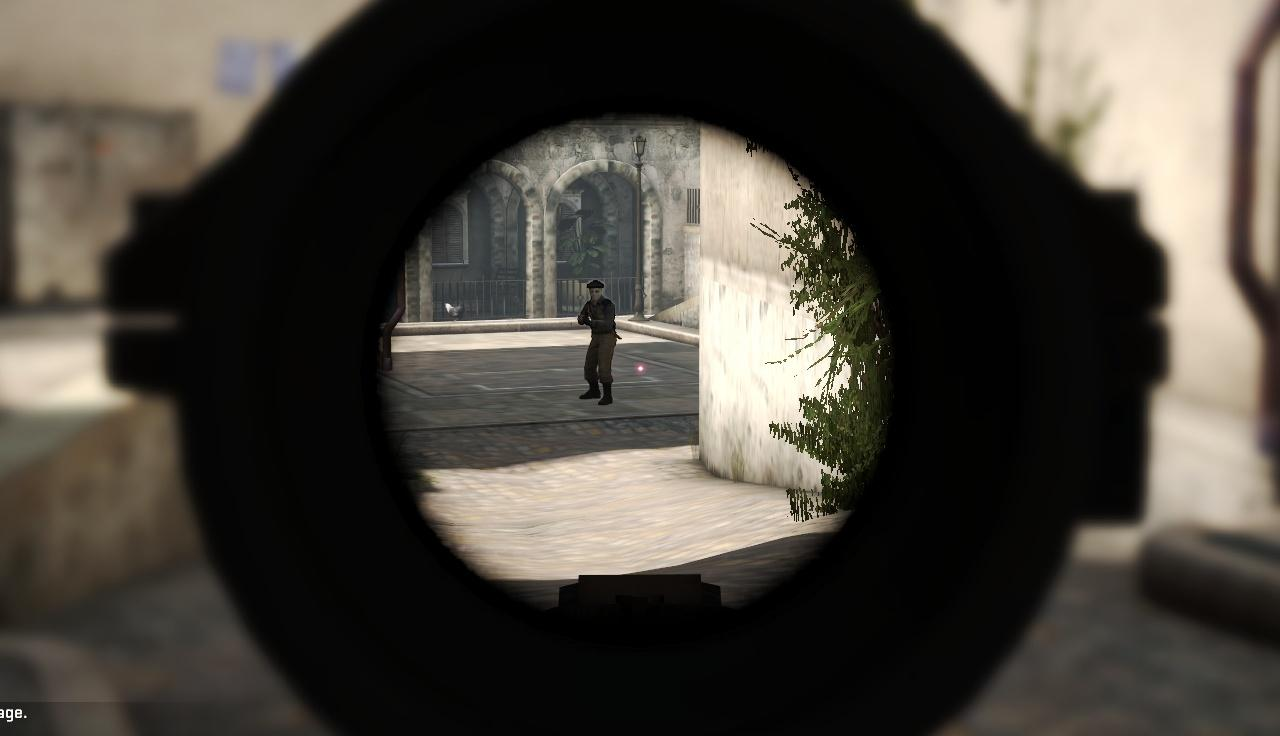tt: (581, 280, 613, 404)
tthead: (589, 281, 602, 300)
